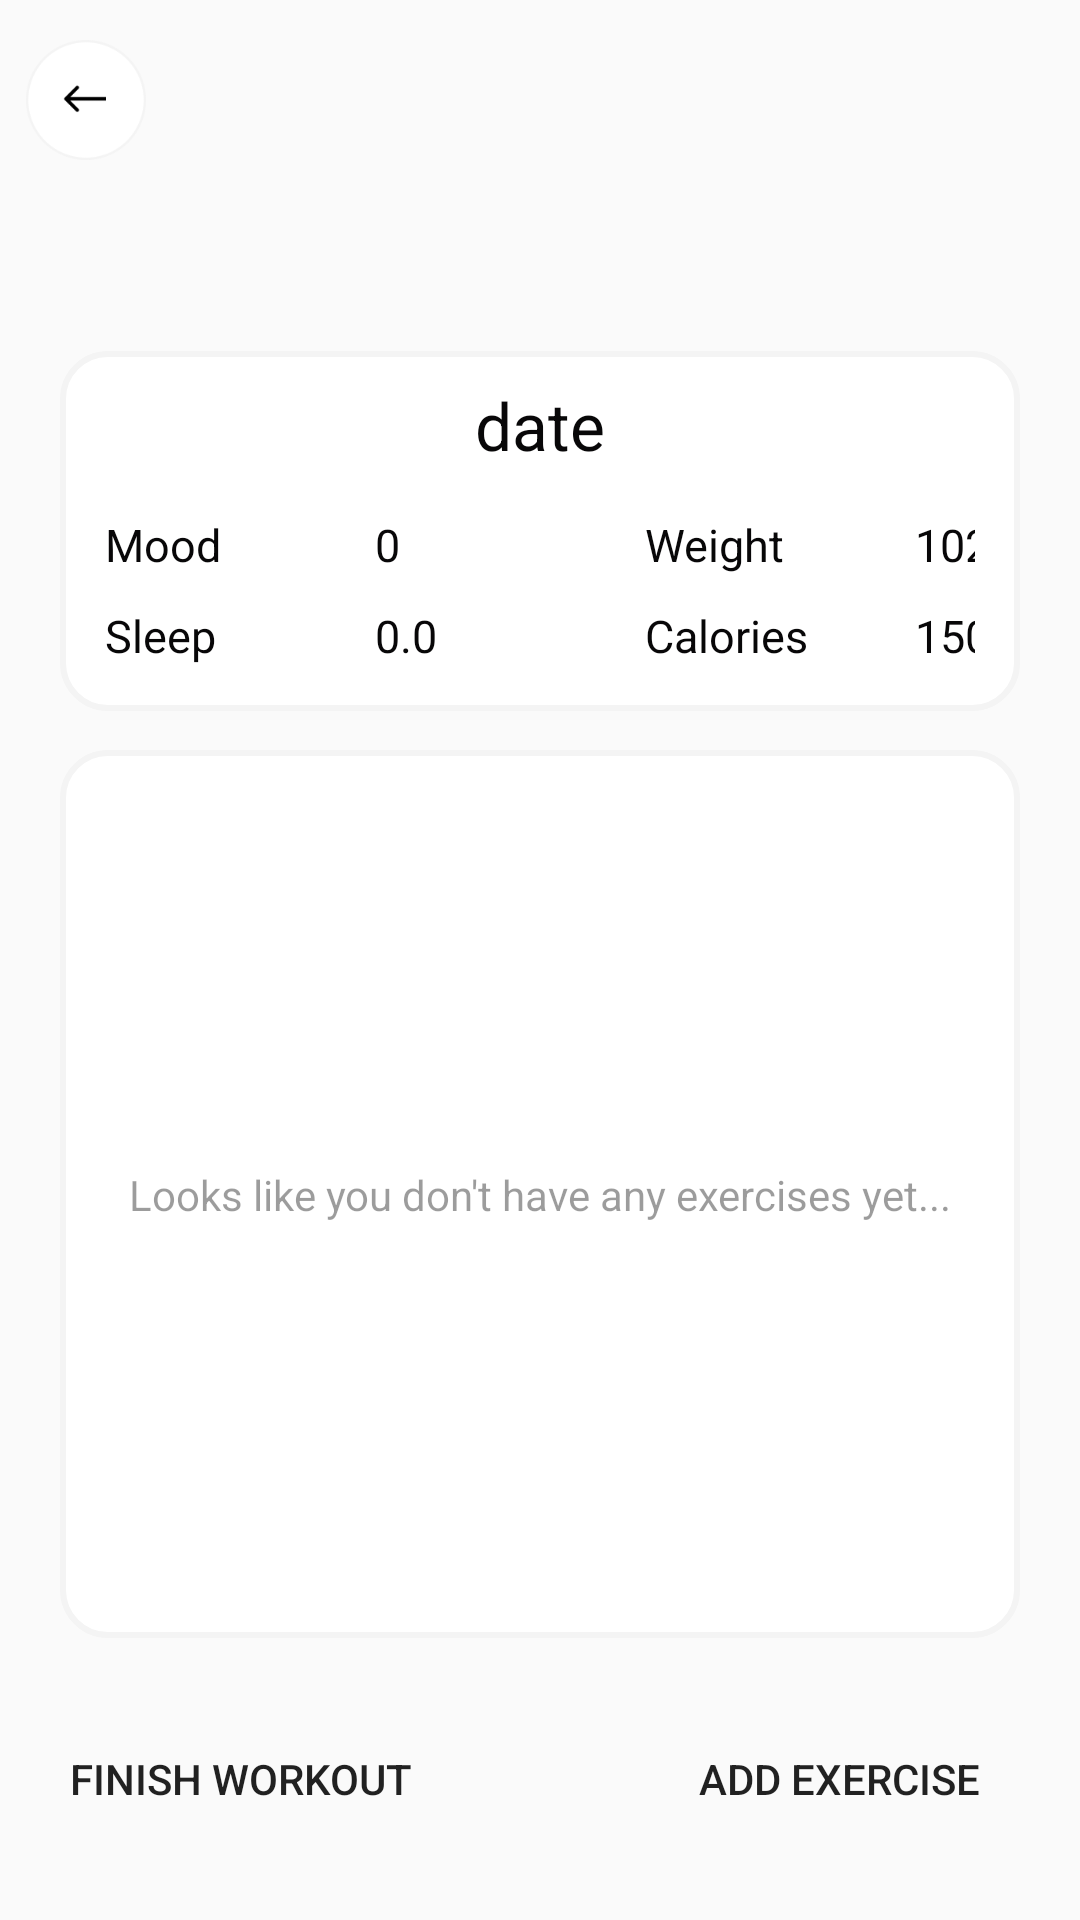

Locate icon controls on the screen. Image size 1080 x 1920, boxes as bbox=(x1, y1, x2, y2).
bakcarrow: bbox=(64, 85, 106, 112)
